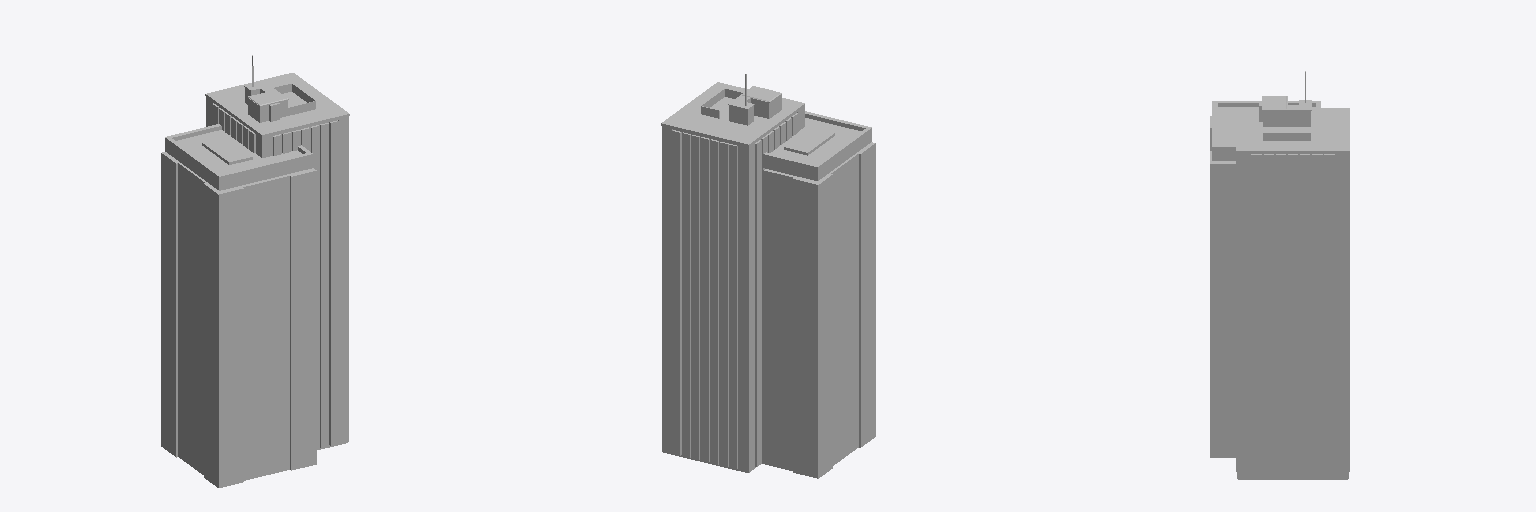
Rendered from Building3.obj.
3 renders of one model, left to right at view 1: azimuth 30°, elevation 25°; view 2: azimuth 150°, elevation 25°; view 3: azimuth 270°, elevation 25°, orthographic.
Parts seen in each view (by area): view 1: Group5_Plane.017; view 2: Group5_Plane.017; view 3: Group5_Plane.017.
Boxes of the visible parts, box(x1,y1,x2,y2) form: Group5_Plane.017: box(161, 55, 349, 487); Group5_Plane.017: box(661, 74, 875, 478); Group5_Plane.017: box(1210, 71, 1349, 479).
Size of the model in its own units: 1.53 by 3.81 by 1.28.